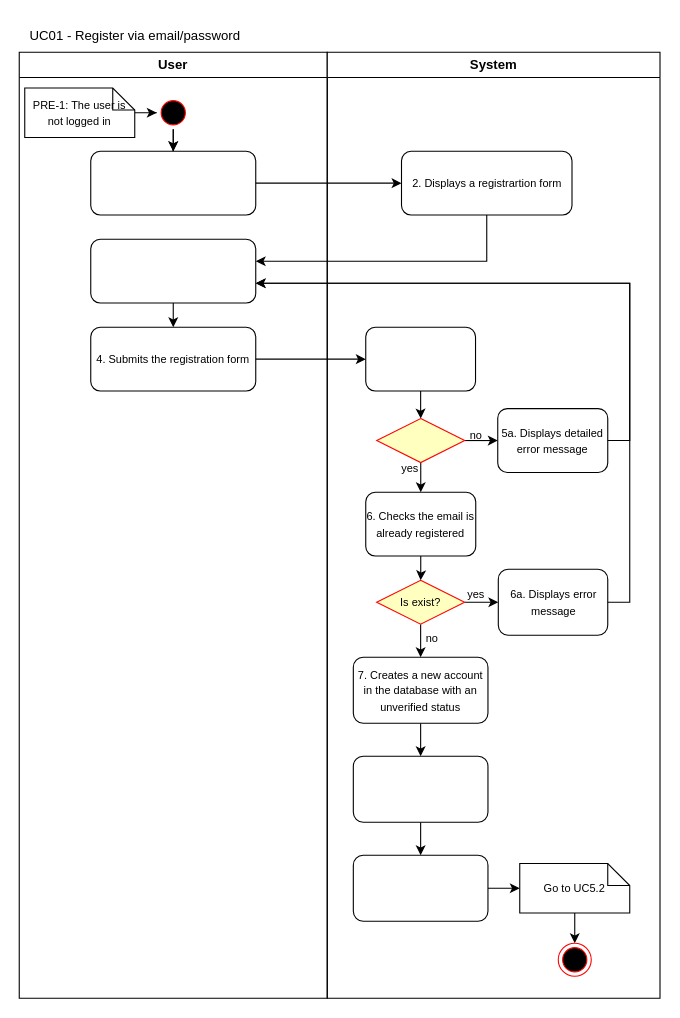
Image size: 680x1018. Some labels were removed from this diagram. Here are the shapes that lost their labels. From the top down, the centre of each, then its label:
At (173,182): "1. Accesses to the registration page".
At (173,270): "3. Enter the information".
At (420,358): "5. Validates user input".
At (420,440): "Is valid?".
At (420,788): "8. Creates an OTP and sends it to the user's email".
At (420,887): "9. Redirects the user to the OTP verification page".
